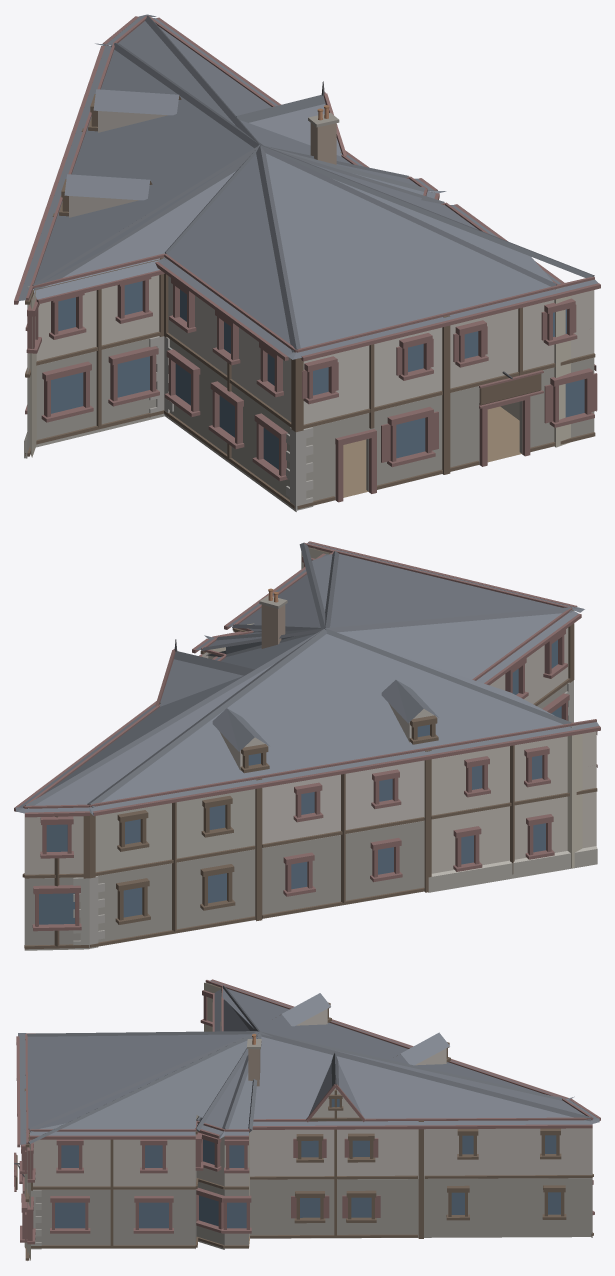
3 renders of one model, top to bottom at view 1: azimuth 30°, elevation 25°; view 2: azimuth 150°, elevation 25°; view 3: azimuth 270°, elevation 25°, orthographic. The views are drawn at different scales.
Visible parts, largest first — view 1: B001_visible; view 2: B001_visible; view 3: B001_visible.
Boxes of the visible parts, bbox=[...] form: B001_visible: bbox=[14, 14, 600, 511]; B001_visible: bbox=[14, 541, 600, 950]; B001_visible: bbox=[14, 979, 600, 1260].
Size of the model in its own units: 19.49 by 10.14 by 28.98.
